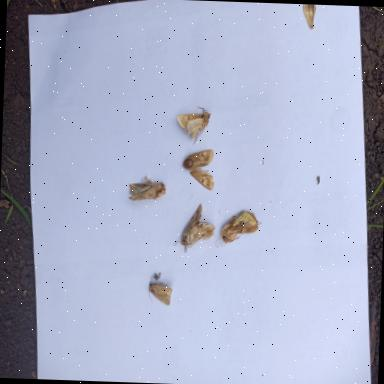abw: (172, 201, 215, 248), (215, 204, 263, 246), (182, 146, 215, 190), (175, 104, 210, 138), (124, 176, 166, 202), (146, 270, 172, 305)
